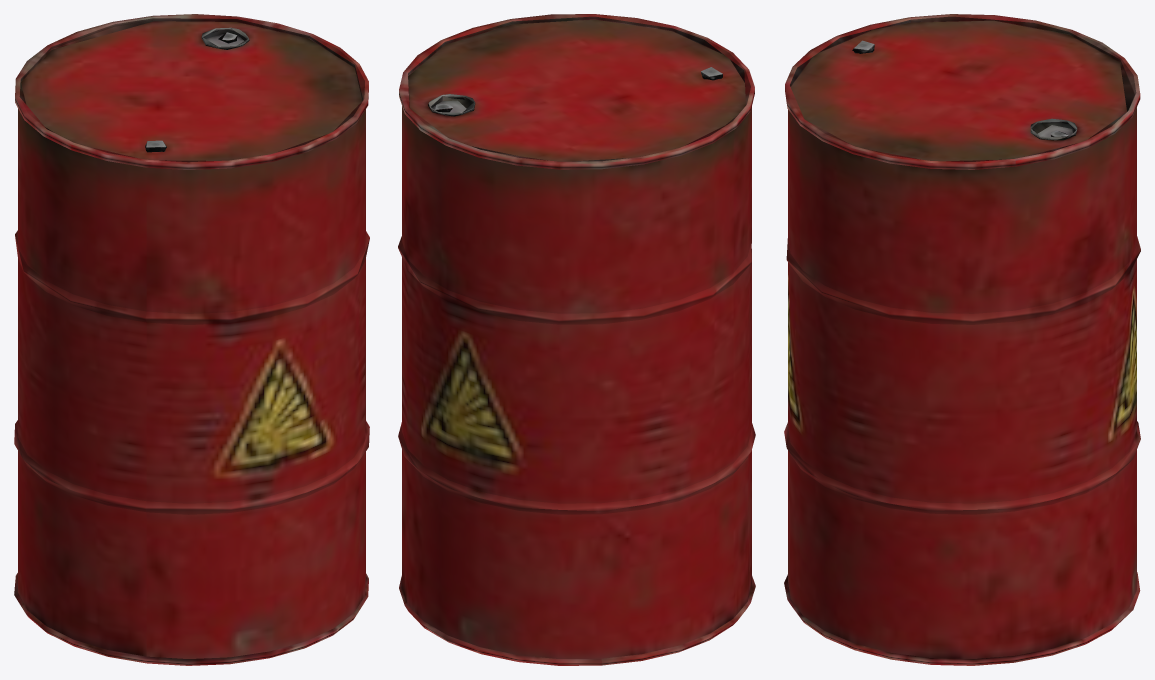
Rendered from Barrel_01.slim.glb.
3 renders of one model, left to right at view 1: azimuth 30°, elevation 25°; view 2: azimuth 150°, elevation 25°; view 3: azimuth 270°, elevation 25°, orthographic.
Bounding box in the file's own units: 0.5628 × 0.8789 × 0.5628.
Materials: 1 (1 with a texture image).
